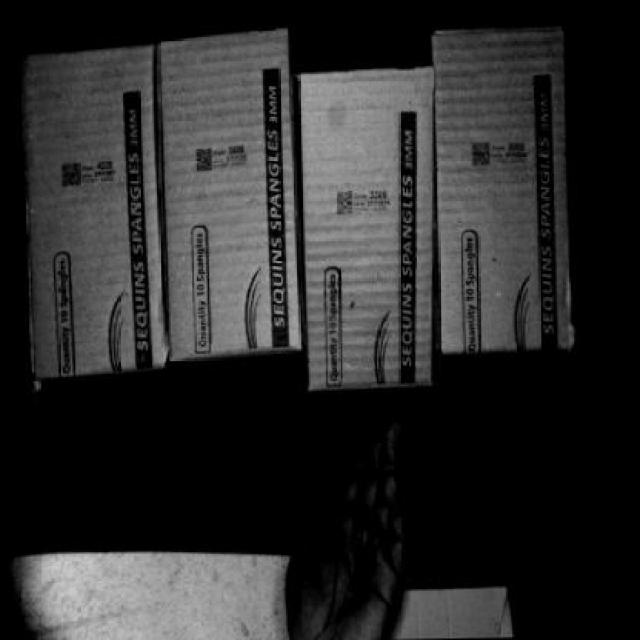cardboxes: (155, 36, 303, 358), (23, 40, 162, 375), (438, 27, 574, 353), (300, 66, 438, 382)
